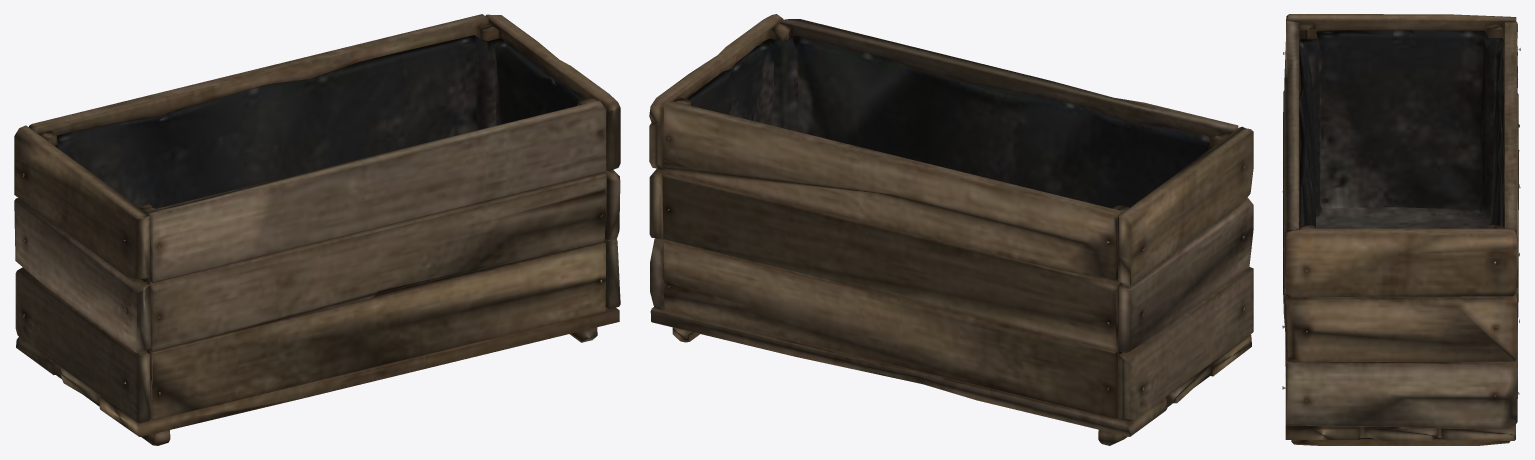
The model's file is planter_box_01.glb.
3 renders of one model, left to right at view 1: azimuth 30°, elevation 25°; view 2: azimuth 150°, elevation 25°; view 3: azimuth 270°, elevation 25°, orthographic. The views are drawn at different scales.
Visible parts, largest first — view 1: planter_box_01; view 2: planter_box_01; view 3: planter_box_01.
Boxes of the visible parts, x1=… form: planter_box_01: x1=14, y1=14, x2=620, y2=445; planter_box_01: x1=649, y1=14, x2=1253, y2=445; planter_box_01: x1=1282, y1=14, x2=1520, y2=445.
Size of the model in its own units: 0.9126 by 0.425 by 0.4135.
1 material, 1 textured.
